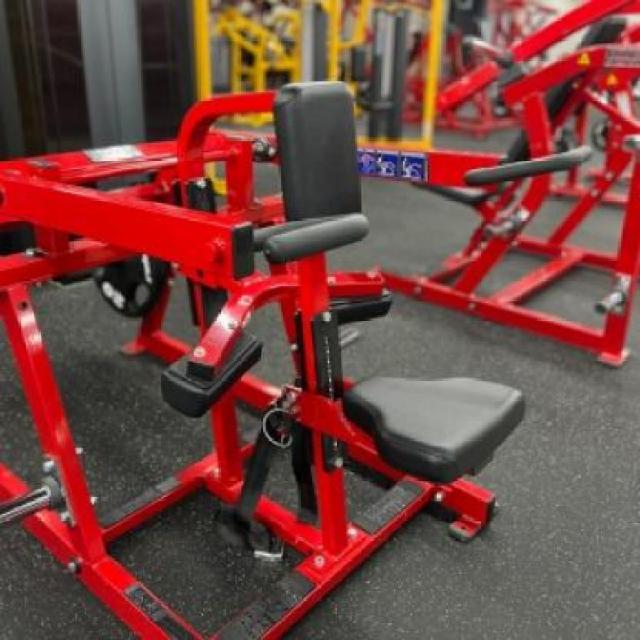seated dip machine: (0, 78, 594, 640)
